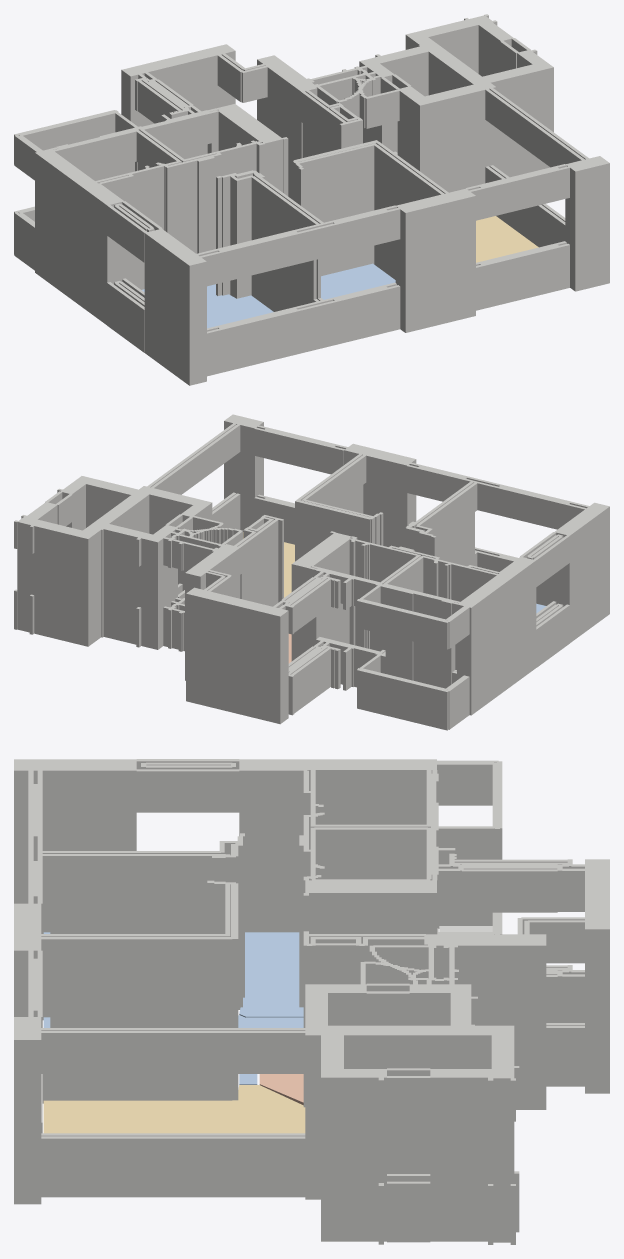
3 views of the same model, one above another, from view 1: azimuth 30°, elevation 25°; view 2: azimuth 150°, elevation 25°; view 3: azimuth 270°, elevation 25° (orthographic). The views are drawn at different scales.
Parts seen in each view (by area): view 1: walls, room:living:8, room:bedroom:5, room:bedroom:4; view 2: walls, room:living:8; view 3: walls, room:living:8, room:bedroom:4, room:bedroom:5, room:kitchen:0.
Part boxes in pixels (x1,y1,x2,y2): walls: [14, 14, 609, 385]; room:living:8: [476, 216, 538, 262]; room:bedroom:5: [321, 263, 395, 299]; room:bedroom:4: [142, 284, 273, 328]; walls: [14, 414, 609, 730]; room:living:8: [243, 532, 294, 597]; walls: [14, 759, 609, 1244]; room:living:8: [43, 1085, 305, 1133]; room:bedroom:4: [43, 932, 303, 1017]; room:bedroom:5: [43, 1015, 303, 1084]; room:kitchen:0: [259, 1074, 303, 1105].
Size of the model in its own units: 11.74 by 2.8 by 9.21.
